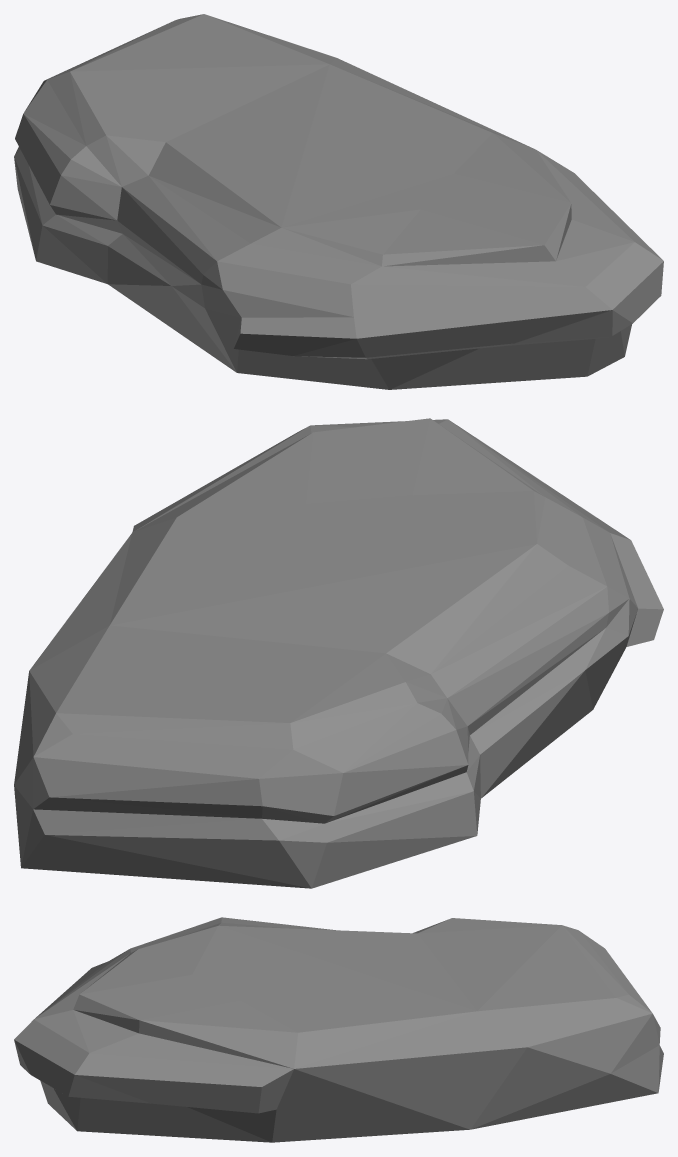
Rendered from Rock_Medium.glb.
3 renders of one model, top to bottom at view 1: azimuth 30°, elevation 25°; view 2: azimuth 150°, elevation 25°; view 3: azimuth 270°, elevation 25°, orthographic. The views are drawn at different scales.
Parts seen in each view (by area): view 1: Rock_Medium; view 2: Rock_Medium; view 3: Rock_Medium.
Part boxes in pixels (<box>): Rock_Medium: <box>14,14,663,389</box>; Rock_Medium: <box>14,418,663,888</box>; Rock_Medium: <box>14,917,663,1142</box>.
Bounding box in the file's own units: 3.96 × 1.25 × 6.6.
Materials: 1 (1 with a texture image).
